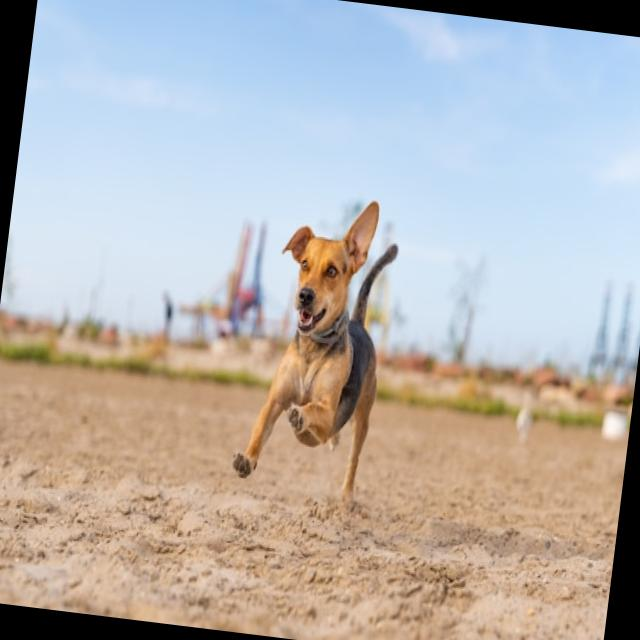Dog: (230, 186, 404, 495)
